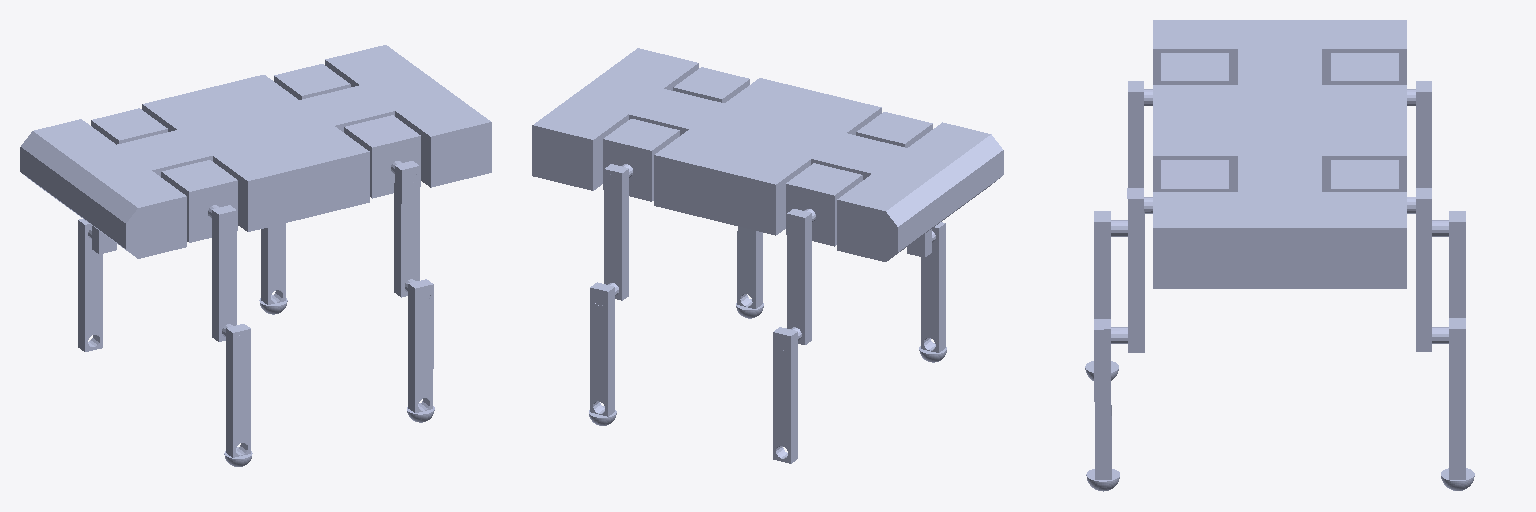
URDF robot description (ROBOT1):
<?xml version="1.0" encoding="utf-8"?>
<!-- This URDF was automatically created by SolidWorks to URDF Exporter! Originally created by [author] ([email redacted]) 
     Commit Version: 1.6.0-4-g7f85cfe  Build Version: 1.6.7995.38578
     For more information, please see http://wiki.ros.org/sw_urdf_exporter -->
<robot
  name="ROBOT1">
  <link
    name="base_link">
    <inertial>
      <origin
        xyz="0.116431751150278 -0.207178971089027 0.188316600433126"
        rpy="0 0 0" />
      <mass
        value="1.40070796326795" />
      <inertia
        ixx="0.00248542459104405"
        ixy="-9.02501417302497E-20"
        ixz="4.31279021540109E-20"
        iyy="0.0111146058983285"
        iyz="1.72286307219886E-19"
        izz="0.0132350008064984" />
    </inertial>
    <visual>
      <origin
        xyz="0 0 0"
        rpy="0 0 0" />
      <geometry>
        <mesh
          filename="package://ROBOT1/meshes/base_link.STL" />
      </geometry>
      <material
        name="">
        <color
          rgba="0.792156862745098 0.819607843137255 0.933333333333333 1" />
      </material>
    </visual>
    <collision>
      <origin
        xyz="0 0 0"
        rpy="0 0 0" />
      <geometry>
        <mesh
          filename="package://ROBOT1/meshes/base_link.STL" />
      </geometry>
    </collision>
  </link>
  <link
    name="coxa_fr">
    <inertial>
      <origin
        xyz="0.02 0.000754837272160719 0"
        rpy="0 0 0" />
      <mass
        value="0.062429203673205" />
      <inertia
        ixx="1.84677199387813E-05"
        ixy="2.59964096350411E-21"
        ixz="-1.3807824971985E-22"
        iyy="1.6647787646188E-05"
        iyz="-6.53877226174719E-22"
        izz="1.80684758723876E-05" />
    </inertial>
    <visual>
      <origin
        xyz="0 0 0"
        rpy="0 0 0" />
      <geometry>
        <mesh
          filename="package://ROBOT1/meshes/coxa_fr.STL" />
      </geometry>
      <material
        name="">
        <color
          rgba="0.792156862745098 0.819607843137255 0.933333333333333 1" />
      </material>
    </visual>
    <collision>
      <origin
        xyz="0 0 0"
        rpy="0 0 0" />
      <geometry>
        <mesh
          filename="package://ROBOT1/meshes/coxa_fr.STL" />
      </geometry>
    </collision>
  </link>
  <joint
    name="coxa_fr"
    type="continuous">
    <origin
      xyz="0.019861 -0.15718 0.18832"
      rpy="0 0 0" />
    <parent
      link="base_link" />
    <child
      link="coxa_fr" />
    <axis
      xyz="1 0 0" />
    <limit
      lower="0"
      upper="0"
      effort="0"
      velocity="0" />
  </joint>
  <link
    name="femur_fr">
    <inertial>
      <origin
        xyz="-0.0488437275890431 0 0.0064926417856572"
        rpy="0 0 0" />
      <mass
        value="0.0157853981633974" />
      <inertia
        ixx="7.75233261402973E-07"
        ixy="-3.26102594582921E-22"
        ixz="8.51912098405902E-07"
        iyy="1.37773588143548E-05"
        iyz="1.38245421068166E-22"
        izz="1.35744430299943E-05" />
    </inertial>
    <visual>
      <origin
        xyz="0 0 0"
        rpy="0 0 0" />
      <geometry>
        <mesh
          filename="package://ROBOT1/meshes/femur_fr.STL" />
      </geometry>
      <material
        name="">
        <color
          rgba="0.792156862745098 0.819607843137255 0.933333333333333 1" />
      </material>
    </visual>
    <collision>
      <origin
        xyz="0 0 0"
        rpy="0 0 0" />
      <geometry>
        <mesh
          filename="package://ROBOT1/meshes/femur_fr.STL" />
      </geometry>
    </collision>
  </link>
  <joint
    name="femur_fr"
    type="continuous">
    <origin
      xyz="0.02 0.03 0"
      rpy="-1.5708 -1.5708 0" />
    <parent
      link="coxa_fr" />
    <child
      link="femur_fr" />
    <axis
      xyz="0 0 1" />
    <limit
      lower="0"
      upper="0"
      effort="0"
      velocity="0" />
  </joint>
  <link
    name="tibia_fr">
    <inertial>
      <origin
        xyz="-0.0423007970042589 0 -0.005"
        rpy="0 0 0" />
      <mass
        value="0.0134292036732051" />
      <inertia
        ixx="3.83342553567574E-07"
        ixy="6.8124930770343E-23"
        ixz="1.74873797158678E-22"
        iyy="9.76478588361596E-06"
        iyz="-1.39562920708628E-22"
        izz="9.92430837596344E-06" />
    </inertial>
    <visual>
      <origin
        xyz="0 0 0"
        rpy="0 0 0" />
      <geometry>
        <mesh
          filename="package://ROBOT1/meshes/tibia_fr.STL" />
      </geometry>
      <material
        name="">
        <color
          rgba="0.792156862745098 0.819607843137255 0.933333333333333 1" />
      </material>
    </visual>
    <collision>
      <origin
        xyz="0 0 0"
        rpy="0 0 0" />
      <geometry>
        <mesh
          filename="package://ROBOT1/meshes/tibia_fr.STL" />
      </geometry>
    </collision>
  </link>
  <joint
    name="tibia_fr"
    type="continuous">
    <origin
      xyz="-0.085 0 0.02"
      rpy="3.1416 0 0" />
    <parent
      link="femur_fr" />
    <child
      link="tibia_fr" />
    <axis
      xyz="0 0 1" />
    <limit
      lower="0"
      upper="0"
      effort="0"
      velocity="0" />
  </joint>
  <link
    name="foot_fr">
    <inertial>
      <origin
        xyz="0 0.00579023503580695 1.38777878078145E-17"
        rpy="0 0 0" />
      <mass
        value="0.0017943951023932" />
      <inertia
        ixx="4.90753168728642E-08"
        ixy="1.0097419586829E-25"
        ixz="-5.34133682582635E-26"
        iyy="7.56508040957278E-08"
        iyz="-8.23009786527202E-25"
        izz="4.59503168728642E-08" />
    </inertial>
    <visual>
      <origin
        xyz="0 0 0"
        rpy="0 0 0" />
      <geometry>
        <mesh
          filename="package://ROBOT1/meshes/foot_fr.STL" />
      </geometry>
      <material
        name="">
        <color
          rgba="0.792156862745098 0.819607843137255 0.933333333333333 1" />
      </material>
    </visual>
    <collision>
      <origin
        xyz="0 0 0"
        rpy="0 0 0" />
      <geometry>
        <mesh
          filename="package://ROBOT1/meshes/foot_fr.STL" />
      </geometry>
    </collision>
  </link>
  <joint
    name="foot joint"
    type="fixed">
    <origin
      xyz="-0.10032 0 -0.005"
      rpy="0 0 -1.5708" />
    <parent
      link="tibia_fr" />
    <child
      link="foot_fr" />
    <axis
      xyz="0 0 0" />
  </joint>
  <link
    name="coxa_fl">
    <inertial>
      <origin
        xyz="0.02 0.000754837272160691 0"
        rpy="0 0 0" />
      <mass
        value="0.0624292036732051" />
      <inertia
        ixx="1.84677199387813E-05"
        ixy="-1.34804781449719E-21"
        ixz="7.25227782564925E-22"
        iyy="1.6647787646188E-05"
        iyz="1.56103809935542E-21"
        izz="1.80684758723876E-05" />
    </inertial>
    <visual>
      <origin
        xyz="0 0 0"
        rpy="0 0 0" />
      <geometry>
        <mesh
          filename="package://ROBOT1/meshes/coxa_fl.STL" />
      </geometry>
      <material
        name="">
        <color
          rgba="0.792156862745098 0.819607843137255 0.933333333333333 1" />
      </material>
    </visual>
    <collision>
      <origin
        xyz="0 0 0"
        rpy="0 0 0" />
      <geometry>
        <mesh
          filename="package://ROBOT1/meshes/coxa_fl.STL" />
      </geometry>
    </collision>
  </link>
  <joint
    name="coxa_fl"
    type="continuous">
    <origin
      xyz="0.019861116829854 -0.257178971089027 0.188316600433126"
      rpy="3.14159265358979 0 0" />
    <parent
      link="base_link" />
    <child
      link="coxa_fl" />
    <axis
      xyz="1 0 0" />
    <limit
      lower="0"
      upper="0"
      effort="0"
      velocity="0" />
  </joint>
  <link
    name="femur_fl">
    <inertial>
      <origin
        xyz="-0.0488437275890431 0 0.00649264178565717"
        rpy="0 0 0" />
      <mass
        value="0.0157853981633975" />
      <inertia
        ixx="7.75233261402972E-07"
        ixy="-2.66229483379994E-22"
        ixz="8.51912098405898E-07"
        iyy="1.37773588143548E-05"
        iyz="1.50833024394842E-22"
        izz="1.35744430299943E-05" />
    </inertial>
    <visual>
      <origin
        xyz="0 0 0"
        rpy="0 0 0" />
      <geometry>
        <mesh
          filename="package://ROBOT1/meshes/femur_fl.STL" />
      </geometry>
      <material
        name="">
        <color
          rgba="0.792156862745098 0.819607843137255 0.933333333333333 1" />
      </material>
    </visual>
    <collision>
      <origin
        xyz="0 0 0"
        rpy="0 0 0" />
      <geometry>
        <mesh
          filename="package://ROBOT1/meshes/femur_fl.STL" />
      </geometry>
    </collision>
  </link>
  <joint
    name="femur_fl"
    type="continuous">
    <origin
      xyz="0.02 0.03 0"
      rpy="-1.5708 1.5708 0" />
    <parent
      link="coxa_fl" />
    <child
      link="femur_fl" />
    <axis
      xyz="0 0 1" />
    <limit
      lower="0"
      upper="0"
      effort="0"
      velocity="0" />
  </joint>
  <link
    name="tibia_fl">
    <inertial>
      <origin
        xyz="-0.0423007970042589 0 0.005"
        rpy="0 0 0" />
      <mass
        value="0.0134292036732051" />
      <inertia
        ixx="3.83342553567575E-07"
        ixy="-2.14368580117323E-21"
        ixz="5.4762973838221E-23"
        iyy="9.76478588361596E-06"
        iyz="4.26013978711981E-23"
        izz="9.92430837596345E-06" />
    </inertial>
    <visual>
      <origin
        xyz="0 0 0"
        rpy="0 0 0" />
      <geometry>
        <mesh
          filename="package://ROBOT1/meshes/tibia_fl.STL" />
      </geometry>
      <material
        name="">
        <color
          rgba="0.792156862745098 0.819607843137255 0.933333333333333 1" />
      </material>
    </visual>
    <collision>
      <origin
        xyz="0 0 0"
        rpy="0 0 0" />
      <geometry>
        <mesh
          filename="package://ROBOT1/meshes/tibia_fl.STL" />
      </geometry>
    </collision>
  </link>
  <joint
    name="tibia_fl"
    type="continuous">
    <origin
      xyz="-0.085 0 0.02"
      rpy="0 0 0" />
    <parent
      link="femur_fl" />
    <child
      link="tibia_fl" />
    <axis
      xyz="0 0 1" />
    <limit
      lower="0"
      upper="0"
      effort="0"
      velocity="0" />
  </joint>
  <link
    name="foot_fl">
    <inertial>
      <origin
        xyz="0 0.00579023503580695 -5.55111512312578E-17"
        rpy="0 0 0" />
      <mass
        value="0.0017943951023932" />
      <inertia
        ixx="4.90753168728642E-08"
        ixy="-1.58822072698495E-23"
        ixz="6.61640046376351E-25"
        iyy="7.56508040957278E-08"
        iyz="-1.08742949959437E-26"
        izz="4.59503168728642E-08" />
    </inertial>
    <visual>
      <origin
        xyz="0 0 0"
        rpy="0 0 0" />
      <geometry>
        <mesh
          filename="package://ROBOT1/meshes/foot_fl.STL" />
      </geometry>
      <material
        name="">
        <color
          rgba="0.792156862745098 0.819607843137255 0.933333333333333 1" />
      </material>
    </visual>
    <collision>
      <origin
        xyz="0 0 0"
        rpy="0 0 0" />
      <geometry>
        <mesh
          filename="package://ROBOT1/meshes/foot_fl.STL" />
      </geometry>
    </collision>
  </link>
  <joint
    name="foot_fl"
    type="fixed">
    <origin
      xyz="-0.100321657493192 0 0.005"
      rpy="3.14159265358979 0 1.5707963267949" />
    <parent
      link="tibia_fl" />
    <child
      link="foot_fl" />
    <axis
      xyz="0 0 0" />
    <limit
      lower="0"
      upper="0"
      effort="0"
      velocity="0" />
  </joint>
  <link
    name="coxa_br">
    <inertial>
      <origin
        xyz="0.02 0.000754837272160747 -5.55111512312578E-17"
        rpy="0 0 0" />
      <mass
        value="0.0624292036732052" />
      <inertia
        ixx="1.84677199387814E-05"
        ixy="9.23454763566743E-21"
        ixz="-4.1881420550078E-22"
        iyy="1.66477876461881E-05"
        iyz="1.80035257789243E-21"
        izz="1.80684758723877E-05" />
    </inertial>
    <visual>
      <origin
        xyz="0 0 0"
        rpy="0 0 0" />
      <geometry>
        <mesh
          filename="package://ROBOT1/meshes/coxa_br.STL" />
      </geometry>
      <material
        name="">
        <color
          rgba="0.792156862745098 0.819607843137255 0.933333333333333 1" />
      </material>
    </visual>
    <collision>
      <origin
        xyz="0 0 0"
        rpy="0 0 0" />
      <geometry>
        <mesh
          filename="package://ROBOT1/meshes/coxa_br.STL" />
      </geometry>
    </collision>
  </link>
  <joint
    name="coxa_br"
    type="continuous">
    <origin
      xyz="0.16986 -0.15718 0.18832"
      rpy="0 0 0" />
    <parent
      link="base_link" />
    <child
      link="coxa_br" />
    <axis
      xyz="1 0 0" />
    <limit
      lower="0"
      upper="0"
      effort="0"
      velocity="0" />
  </joint>
  <link
    name="femur_br">
    <inertial>
      <origin
        xyz="-0.0488437275890431 0 0.00649264178565723"
        rpy="0 0 0" />
      <mass
        value="0.0157853981633975" />
      <inertia
        ixx="7.75233261402974E-07"
        ixy="1.43008841217722E-21"
        ixz="8.51912098405903E-07"
        iyy="1.37773588143548E-05"
        iyz="-2.35653862421307E-22"
        izz="1.35744430299943E-05" />
    </inertial>
    <visual>
      <origin
        xyz="0 0 0"
        rpy="0 0 0" />
      <geometry>
        <mesh
          filename="package://ROBOT1/meshes/femur_br.STL" />
      </geometry>
      <material
        name="">
        <color
          rgba="0.792156862745098 0.819607843137255 0.933333333333333 1" />
      </material>
    </visual>
    <collision>
      <origin
        xyz="0 0 0"
        rpy="0 0 0" />
      <geometry>
        <mesh
          filename="package://ROBOT1/meshes/femur_br.STL" />
      </geometry>
    </collision>
  </link>
  <joint
    name="femur_br"
    type="continuous">
    <origin
      xyz="0.02 0.03 0"
      rpy="-1.5708 -1.5708 0" />
    <parent
      link="coxa_br" />
    <child
      link="femur_br" />
    <axis
      xyz="0 0 1" />
    <limit
      lower="0"
      upper="0"
      effort="0"
      velocity="0" />
  </joint>
  <link
    name="tibia_br">
    <inertial>
      <origin
        xyz="-0.0423007970042589 0 0.00500000000000003"
        rpy="0 0 0" />
      <mass
        value="0.0134292036732051" />
      <inertia
        ixx="3.83342553567574E-07"
        ixy="3.75049844513447E-21"
        ixz="-2.08124615679892E-22"
        iyy="9.76478588361595E-06"
        iyz="-1.17058081558498E-23"
        izz="9.92430837596343E-06" />
    </inertial>
    <visual>
      <origin
        xyz="0 0 0"
        rpy="0 0 0" />
      <geometry>
        <mesh
          filename="package://ROBOT1/meshes/tibia_br.STL" />
      </geometry>
      <material
        name="">
        <color
          rgba="0.792156862745098 0.819607843137255 0.933333333333333 1" />
      </material>
    </visual>
    <collision>
      <origin
        xyz="0 0 0"
        rpy="0 0 0" />
      <geometry>
        <mesh
          filename="package://ROBOT1/meshes/tibia_br.STL" />
      </geometry>
    </collision>
  </link>
  <joint
    name="tibia_br"
    type="continuous">
    <origin
      xyz="-0.085 0 0.02"
      rpy="0 0 0" />
    <parent
      link="femur_br" />
    <child
      link="tibia_br" />
    <axis
      xyz="0 0 1" />
    <limit
      lower="0"
      upper="0"
      effort="0"
      velocity="0" />
  </joint>
  <link
    name="foot_br">
    <inertial>
      <origin
        xyz="0 0.00579023503580695 0"
        rpy="0 0 0" />
      <mass
        value="0.00179439510239319" />
      <inertia
        ixx="4.90753168728642E-08"
        ixy="3.22188395850702E-25"
        ixz="-5.34133682582648E-26"
        iyy="7.56508040957278E-08"
        iyz="-1.71453108836167E-24"
        izz="4.59503168728642E-08" />
    </inertial>
    <visual>
      <origin
        xyz="0 0 0"
        rpy="0 0 0" />
      <geometry>
        <mesh
          filename="package://ROBOT1/meshes/foot_br.STL" />
      </geometry>
      <material
        name="">
        <color
          rgba="0.792156862745098 0.819607843137255 0.933333333333333 1" />
      </material>
    </visual>
    <collision>
      <origin
        xyz="0 0 0"
        rpy="0 0 0" />
      <geometry>
        <mesh
          filename="package://ROBOT1/meshes/foot_br.STL" />
      </geometry>
    </collision>
  </link>
  <joint
    name="foot_br"
    type="fixed">
    <origin
      xyz="-0.100321657493192 0 0.00499999999999999"
      rpy="3.14159265358979 0 1.5707963267949" />
    <parent
      link="tibia_br" />
    <child
      link="foot_br" />
    <axis
      xyz="0 0 0" />
    <limit
      lower="0"
      upper="0"
      effort="0"
      velocity="0" />
  </joint>
  <link
    name="coxa_bl">
    <inertial>
      <origin
        xyz="0.02 0.000754837272160747 2.77555756156289E-17"
        rpy="0 0 0" />
      <mass
        value="0.0624292036732051" />
      <inertia
        ixx="1.84677199387814E-05"
        ixy="1.58361264310137E-21"
        ixz="-1.68015716286648E-21"
        iyy="1.6647787646188E-05"
        iyz="2.32934060494933E-21"
        izz="1.80684758723877E-05" />
    </inertial>
    <visual>
      <origin
        xyz="0 0 0"
        rpy="0 0 0" />
      <geometry>
        <mesh
          filename="package://ROBOT1/meshes/coxa_bl.STL" />
      </geometry>
      <material
        name="">
        <color
          rgba="0.792156862745098 0.819607843137255 0.933333333333333 1" />
      </material>
    </visual>
    <collision>
      <origin
        xyz="0 0 0"
        rpy="0 0 0" />
      <geometry>
        <mesh
          filename="package://ROBOT1/meshes/coxa_bl.STL" />
      </geometry>
    </collision>
  </link>
  <joint
    name="coxa_bl"
    type="continuous">
    <origin
      xyz="0.169861116829854 -0.257178971089027 0.188316600433126"
      rpy="-3.13765432050248 0 0" />
    <parent
      link="base_link" />
    <child
      link="coxa_bl" />
    <axis
      xyz="1 0 0" />
    <limit
      lower="0"
      upper="0"
      effort="0"
      velocity="0" />
  </joint>
  <link
    name="femur_bl">
    <inertial>
      <origin
        xyz="-0.0488437275890431 0 0.00649217647403771"
        rpy="0 0 0" />
      <mass
        value="0.0157853981633975" />
      <inertia
        ixx="7.75233261402974E-07"
        ixy="-8.14160537102829E-23"
        ixz="8.51912098405912E-07"
        iyy="1.37773588143548E-05"
        iyz="-7.91814676637872E-23"
        izz="1.35744430299943E-05" />
    </inertial>
    <visual>
      <origin
        xyz="0 0 0"
        rpy="0 0 0" />
      <geometry>
        <mesh
          filename="package://ROBOT1/meshes/femur_bl.STL" />
      </geometry>
      <material
        name="">
        <color
          rgba="0.792156862745098 0.819607843137255 0.933333333333333 1" />
      </material>
    </visual>
    <collision>
      <origin
        xyz="0 0 0"
        rpy="0 0 0" />
      <geometry>
        <mesh
          filename="package://ROBOT1/meshes/femur_bl.STL" />
      </geometry>
    </collision>
  </link>
  <joint
    name="femur_bl"
    type="continuous">
    <origin
      xyz="0.02 0.03 0"
      rpy="-1.5708 1.5708 0" />
    <parent
      link="coxa_bl" />
    <child
      link="femur_bl" />
    <axis
      xyz="0 0 1" />
    <limit
      lower="0"
      upper="0"
      effort="0"
      velocity="0" />
  </joint>
  <link
    name="tibia_bl">
    <inertial>
      <origin
        xyz="-0.0423007970042589 0 0.00499984489612687"
        rpy="0 0 0" />
      <mass
        value="0.0134292036732051" />
      <inertia
        ixx="3.83342553567574E-07"
        ixy="-3.63861712562797E-21"
        ixz="9.71771783627297E-21"
        iyy="9.76478588361595E-06"
        iyz="9.93976075638578E-24"
        izz="9.92430837596344E-06" />
    </inertial>
    <visual>
      <origin
        xyz="0 0 0"
        rpy="0 0 0" />
      <geometry>
        <mesh
          filename="package://ROBOT1/meshes/tibia_bl.STL" />
      </geometry>
      <material
        name="">
        <color
          rgba="0.792156862745098 0.819607843137255 0.933333333333333 1" />
      </material>
    </visual>
    <collision>
      <origin
        xyz="0 0 0"
        rpy="0 0 0" />
      <geometry>
        <mesh
          filename="package://ROBOT1/meshes/tibia_bl.STL" />
      </geometry>
    </collision>
  </link>
  <joint
    name="tibia_bl"
    type="continuous">
    <origin
      xyz="-0.0850000000000007 0 0.019999689792254"
      rpy="0 0 0" />
    <parent
      link="femur_bl" />
    <child
      link="tibia_bl" />
    <axis
      xyz="0 0 1" />
    <limit
      lower="0"
      upper="0"
      effort="0"
      velocity="0" />
  </joint>
  <link
    name="foot_bl">
    <inertial>
      <origin
        xyz="0 0.00579023503580695 5.55111512312578E-17"
        rpy="0 0 0" />
      <mass
        value="0.00179439510239319" />
      <inertia
        ixx="4.90753168728643E-08"
        ixy="4.26110048274861E-25"
        ixz="-1.91332358916639E-25"
        iyy="7.56508040957278E-08"
        iyz="-4.26902744259789E-23"
        izz="4.59503168728642E-08" />
    </inertial>
    <visual>
      <origin
        xyz="0 0 0"
        rpy="0 0 0" />
      <geometry>
        <mesh
          filename="package://ROBOT1/meshes/foot_bl.STL" />
      </geometry>
      <material
        name="">
        <color
          rgba="0.792156862745098 0.819607843137255 0.933333333333333 1" />
      </material>
    </visual>
    <collision>
      <origin
        xyz="0 0 0"
        rpy="0 0 0" />
      <geometry>
        <mesh
          filename="package://ROBOT1/meshes/foot_bl.STL" />
      </geometry>
    </collision>
  </link>
  <joint
    name="foot_bl"
    type="fixed">
    <origin
      xyz="-0.100321657493192 0 0.00499984489612731"
      rpy="0 0 -1.5707963267949" />
    <parent
      link="tibia_bl" />
    <child
      link="foot_bl" />
    <axis
      xyz="0 0 0" />
  </joint>
</robot>

--- Facts derived from the render (not from the file) ---
The picture shows the robot from 3 angles, left to right: view 1: azimuth 30°, elevation 25°; view 2: azimuth 150°, elevation 25°; view 3: azimuth 270°, elevation 25°; orthographic projection.
Robot: ROBOT1 — 17 links, 16 joints (12 continuous, 4 fixed); root link base_link; default pose: every joint at zero.
Links seen in each view (by area): view 1: base_link, coxa_bl, coxa_fl, femur_bl, tibia_bl, femur_fl, tibia_fl, tibia_fr, tibia_br, coxa_br, coxa_fr; view 2: base_link, coxa_fr, coxa_br, tibia_fr, femur_br, femur_fr, tibia_br, tibia_fl, tibia_bl, coxa_fl, coxa_bl; view 3: base_link, femur_bl, femur_br, tibia_br, tibia_bl, coxa_fr, coxa_fl, coxa_br, coxa_bl, femur_fr, femur_fl, tibia_fl (+1 smaller).
Boxes of the visible links, x1=… form: base_link: x1=20, y1=45, x2=491, y2=258; coxa_bl: x1=344, y1=115, x2=420, y2=198; coxa_fl: x1=161, y1=160, x2=237, y2=242; femur_bl: x1=394, y1=161, x2=429, y2=302; tibia_bl: x1=408, y1=279, x2=433, y2=412; femur_fl: x1=212, y1=205, x2=247, y2=346; tibia_fl: x1=226, y1=324, x2=250, y2=457; tibia_fr: x1=78, y1=219, x2=102, y2=351; tibia_br: x1=261, y1=223, x2=285, y2=304; coxa_br: x1=274, y1=64, x2=350, y2=99; coxa_fr: x1=91, y1=108, x2=167, y2=144; base_link: x1=532, y1=48, x2=1003, y2=261; coxa_fr: x1=786, y1=163, x2=862, y2=246; coxa_br: x1=603, y1=119, x2=679, y2=201; tibia_fr: x1=773, y1=327, x2=797, y2=463; femur_br: x1=593, y1=164, x2=628, y2=305; femur_fr: x1=776, y1=209, x2=811, y2=349; tibia_br: x1=590, y1=282, x2=614, y2=416; tibia_fl: x1=921, y1=222, x2=945, y2=352; tibia_bl: x1=737, y1=227, x2=762, y2=308; coxa_fl: x1=856, y1=112, x2=932, y2=147; coxa_bl: x1=673, y1=67, x2=749, y2=102; base_link: x1=1153, y1=20, x2=1406, y2=288; femur_bl: x1=1111, y1=188, x2=1144, y2=352; femur_br: x1=1416, y1=188, x2=1448, y2=351; tibia_br: x1=1449, y1=318, x2=1465, y2=479; tibia_bl: x1=1094, y1=319, x2=1111, y2=479; coxa_fr: x1=1331, y1=53, x2=1415, y2=105; coxa_fl: x1=1144, y1=53, x2=1228, y2=105; coxa_br: x1=1331, y1=160, x2=1415, y2=213; coxa_bl: x1=1144, y1=160, x2=1228, y2=213; femur_fr: x1=1416, y1=81, x2=1448, y2=236; femur_fl: x1=1111, y1=81, x2=1143, y2=236; tibia_fl: x1=1094, y1=211, x2=1110, y2=318.
Bounding box of the posed robot: 0.3 × 0.23 × 0.2056 m (x, y, z).
16 mesh visuals loaded from 17 distinct referenced files (16 binary STL); not drawn: 1 (reference not matched to a file when rendering).